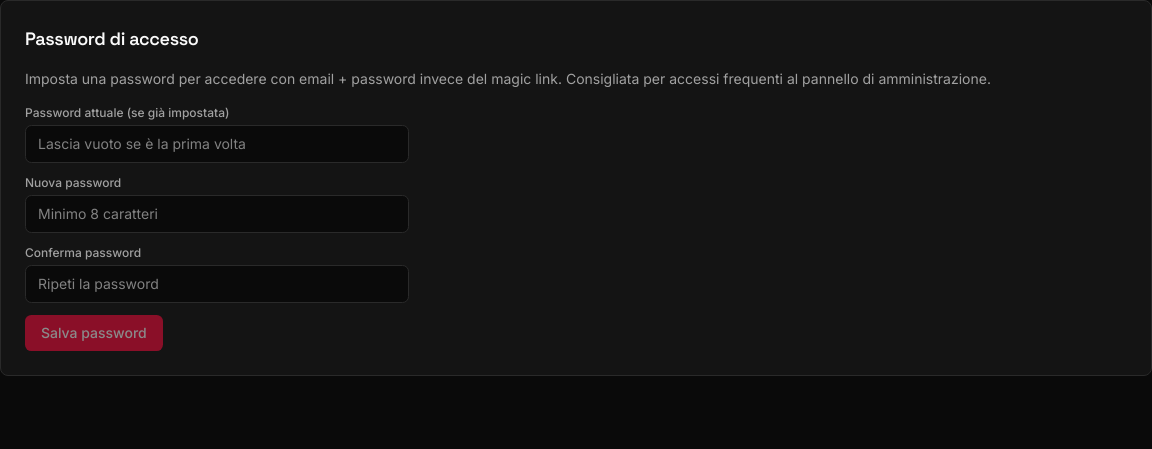
Test: PasswordSetup › shows error when password is too short
Type "short" into the password field with placeholder "Minimo 8 caratteri" at (217,214), box [25,195,409,233]
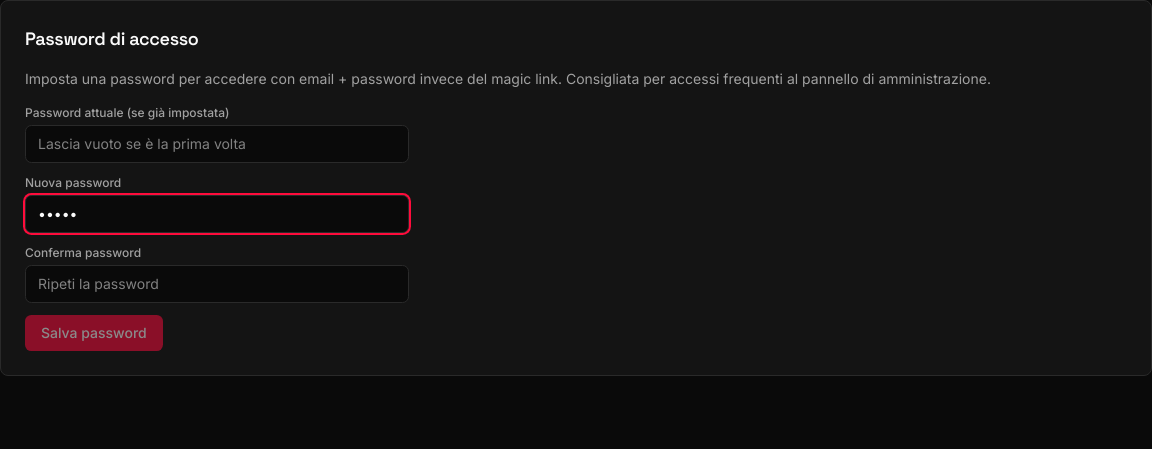
Type "short" into the password field with placeholder "Ripeti la password" at (217,284), box [25,265,409,303]
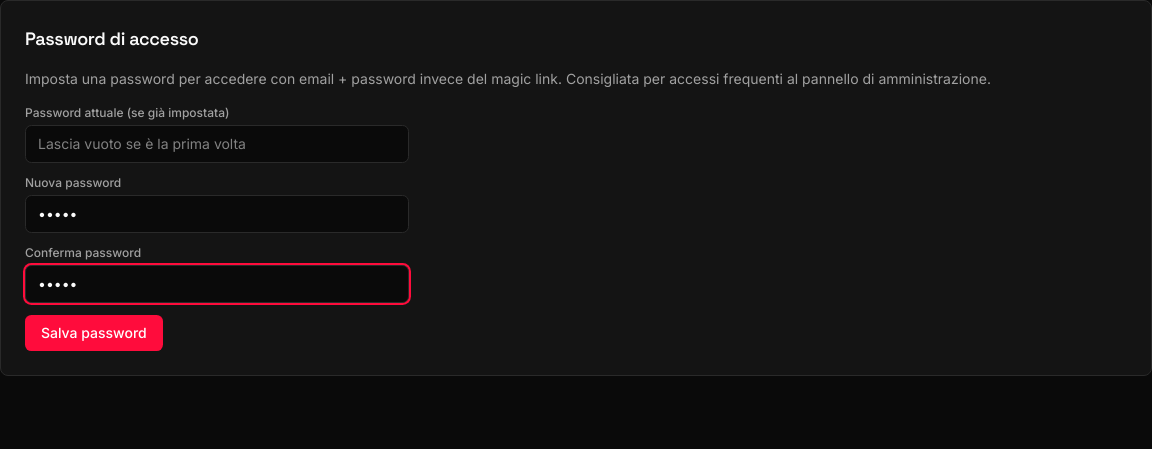
Click the button "Salva password" at (94,333), box [25,315,163,351]
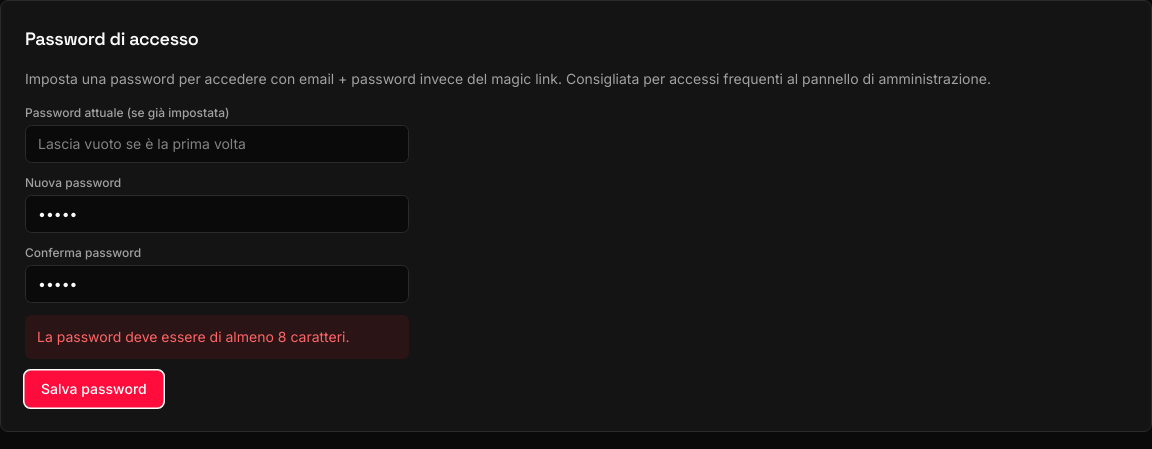
Check: the text "La password deve essere di almeno 8 caratteri." is shown, box [25,315,409,359]
